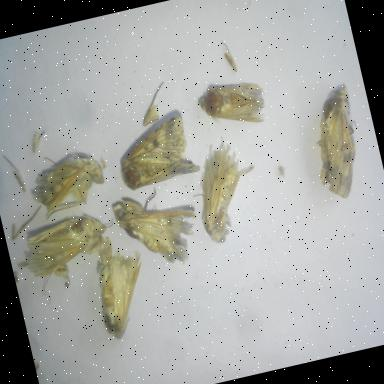abw: (14, 204, 130, 310), (178, 128, 270, 252), (107, 178, 213, 284), (297, 81, 376, 210), (107, 107, 206, 196), (86, 240, 162, 346), (19, 141, 114, 223), (192, 66, 274, 142)
